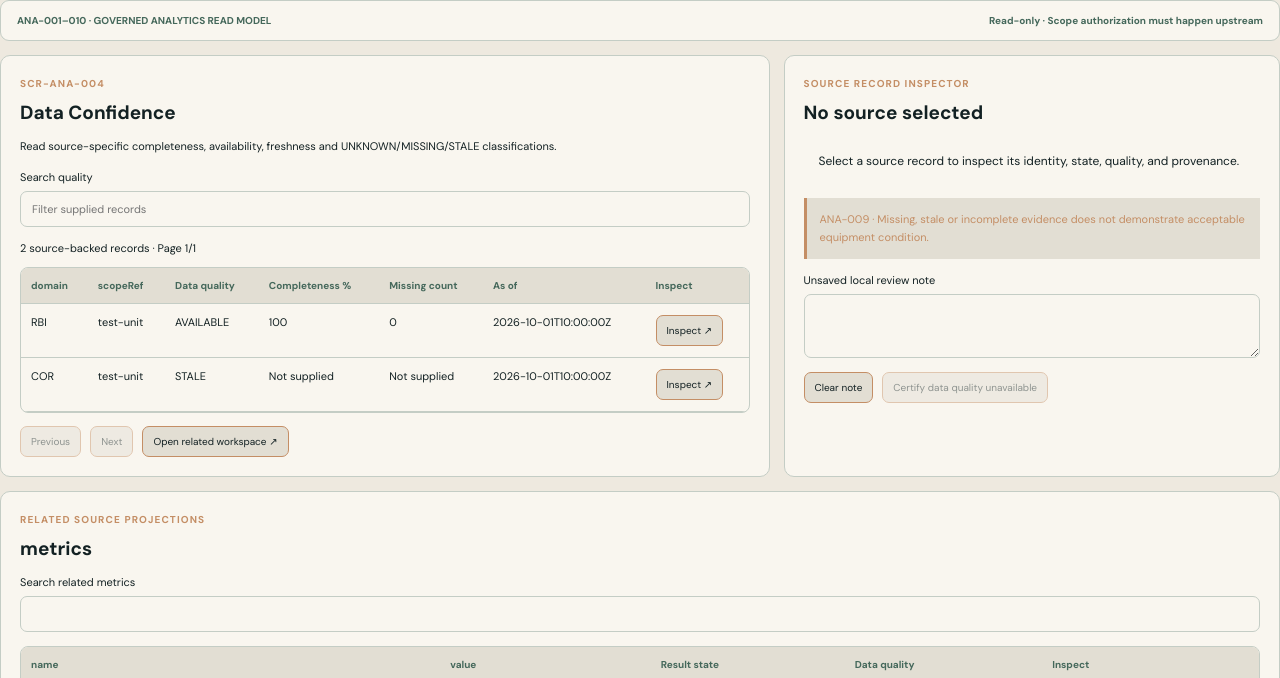
Scenario: ANA engineering comparability and safe analytics interactions › displays stale quality, never labels it acceptable
Expected: the text "STALE" is shown, [165, 357, 259, 411]
Step 1. Click the 2nd button "Inspect ↗" → (689, 384), box [656, 369, 723, 400]
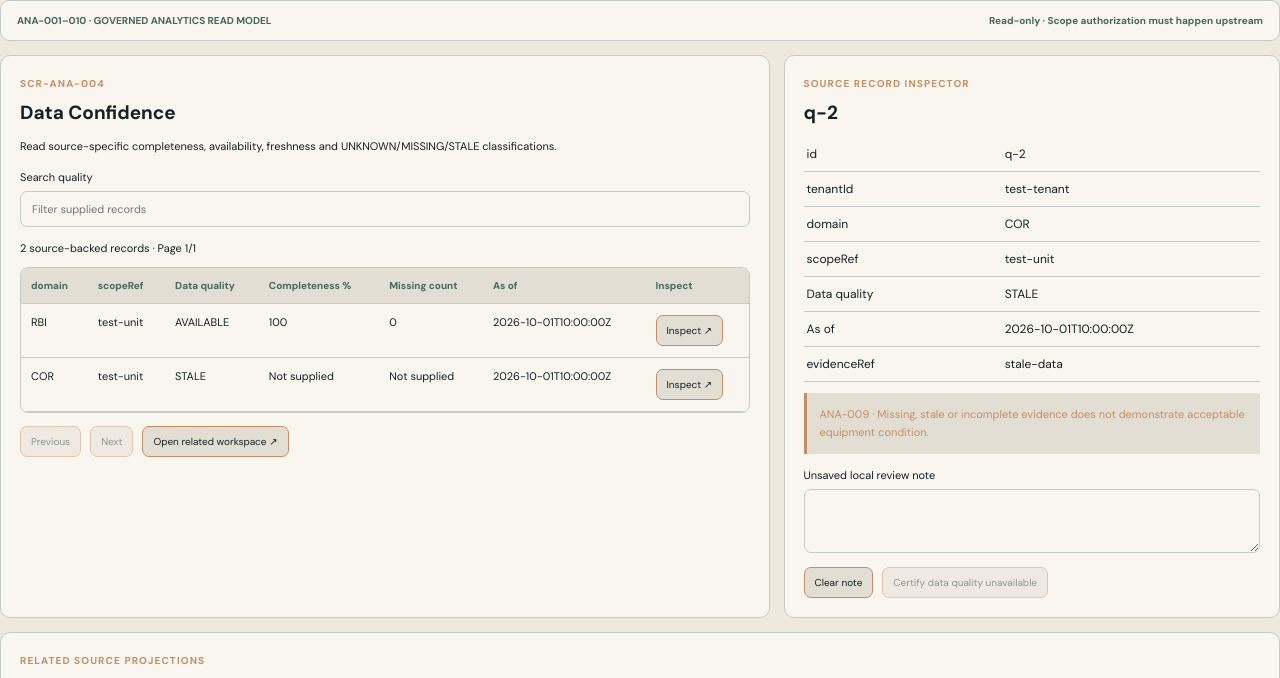
Result: the text "stale-data" is shown at [1005, 356, 1063, 372]
